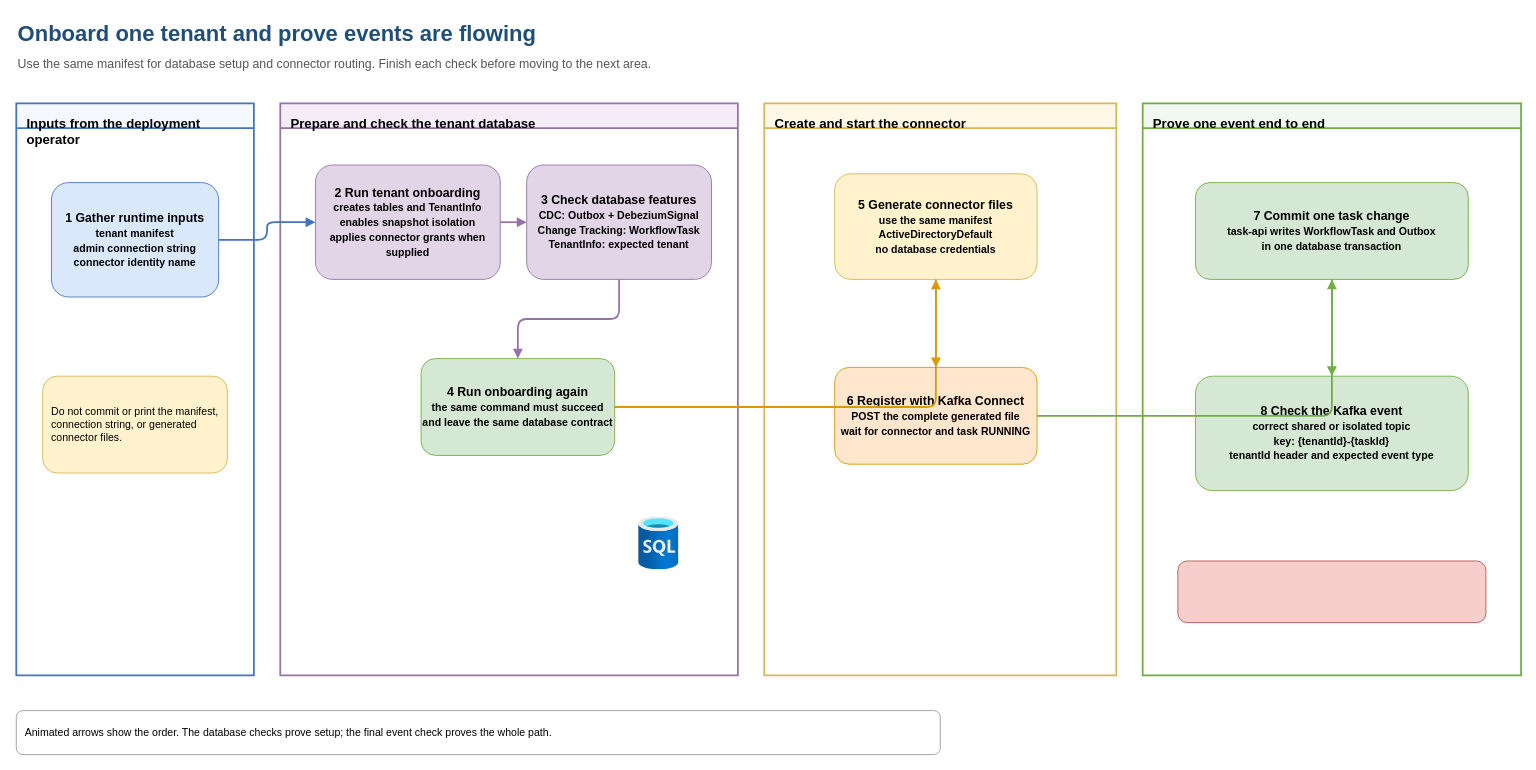
This 1536x770 diagram has some shape labels left out. Here are the shapes that lost their labels. From the top down, the centre of each, then its label:
At point 658,543: "Azure SQL".
At point 1331,591: "Stop at the first failed check. Fix that layer before testing the next one.".
